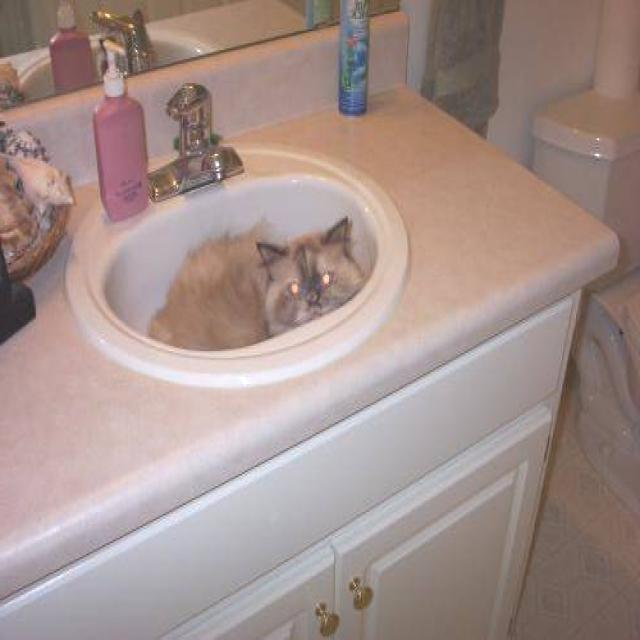Kucing: (128, 188, 378, 360)
